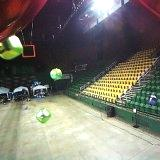Green_Balloon: (0, 34, 23, 60), (35, 108, 51, 124), (50, 68, 62, 80)
Orange_Square_GShape: (22, 43, 36, 58)
Purple_Balloon: (148, 96, 158, 105)
